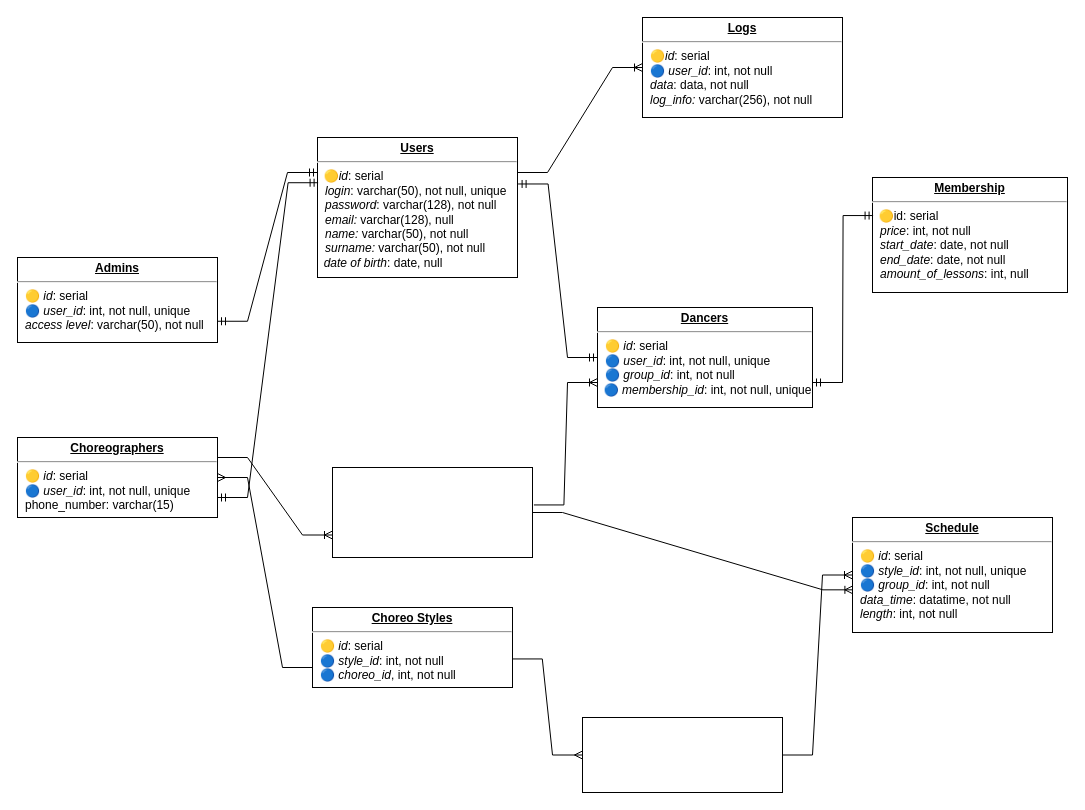
This 1085x810 diagram has some shape labels left out. The centre of each missing label's shape, as x and y in pixels:
Groups 🟡 id : serial name : varchar(50), not null 🔵 choreo_id : int, not null: (432,512)
Styles 🟡 id : serial name : varchar(50), not null: (682,754)
